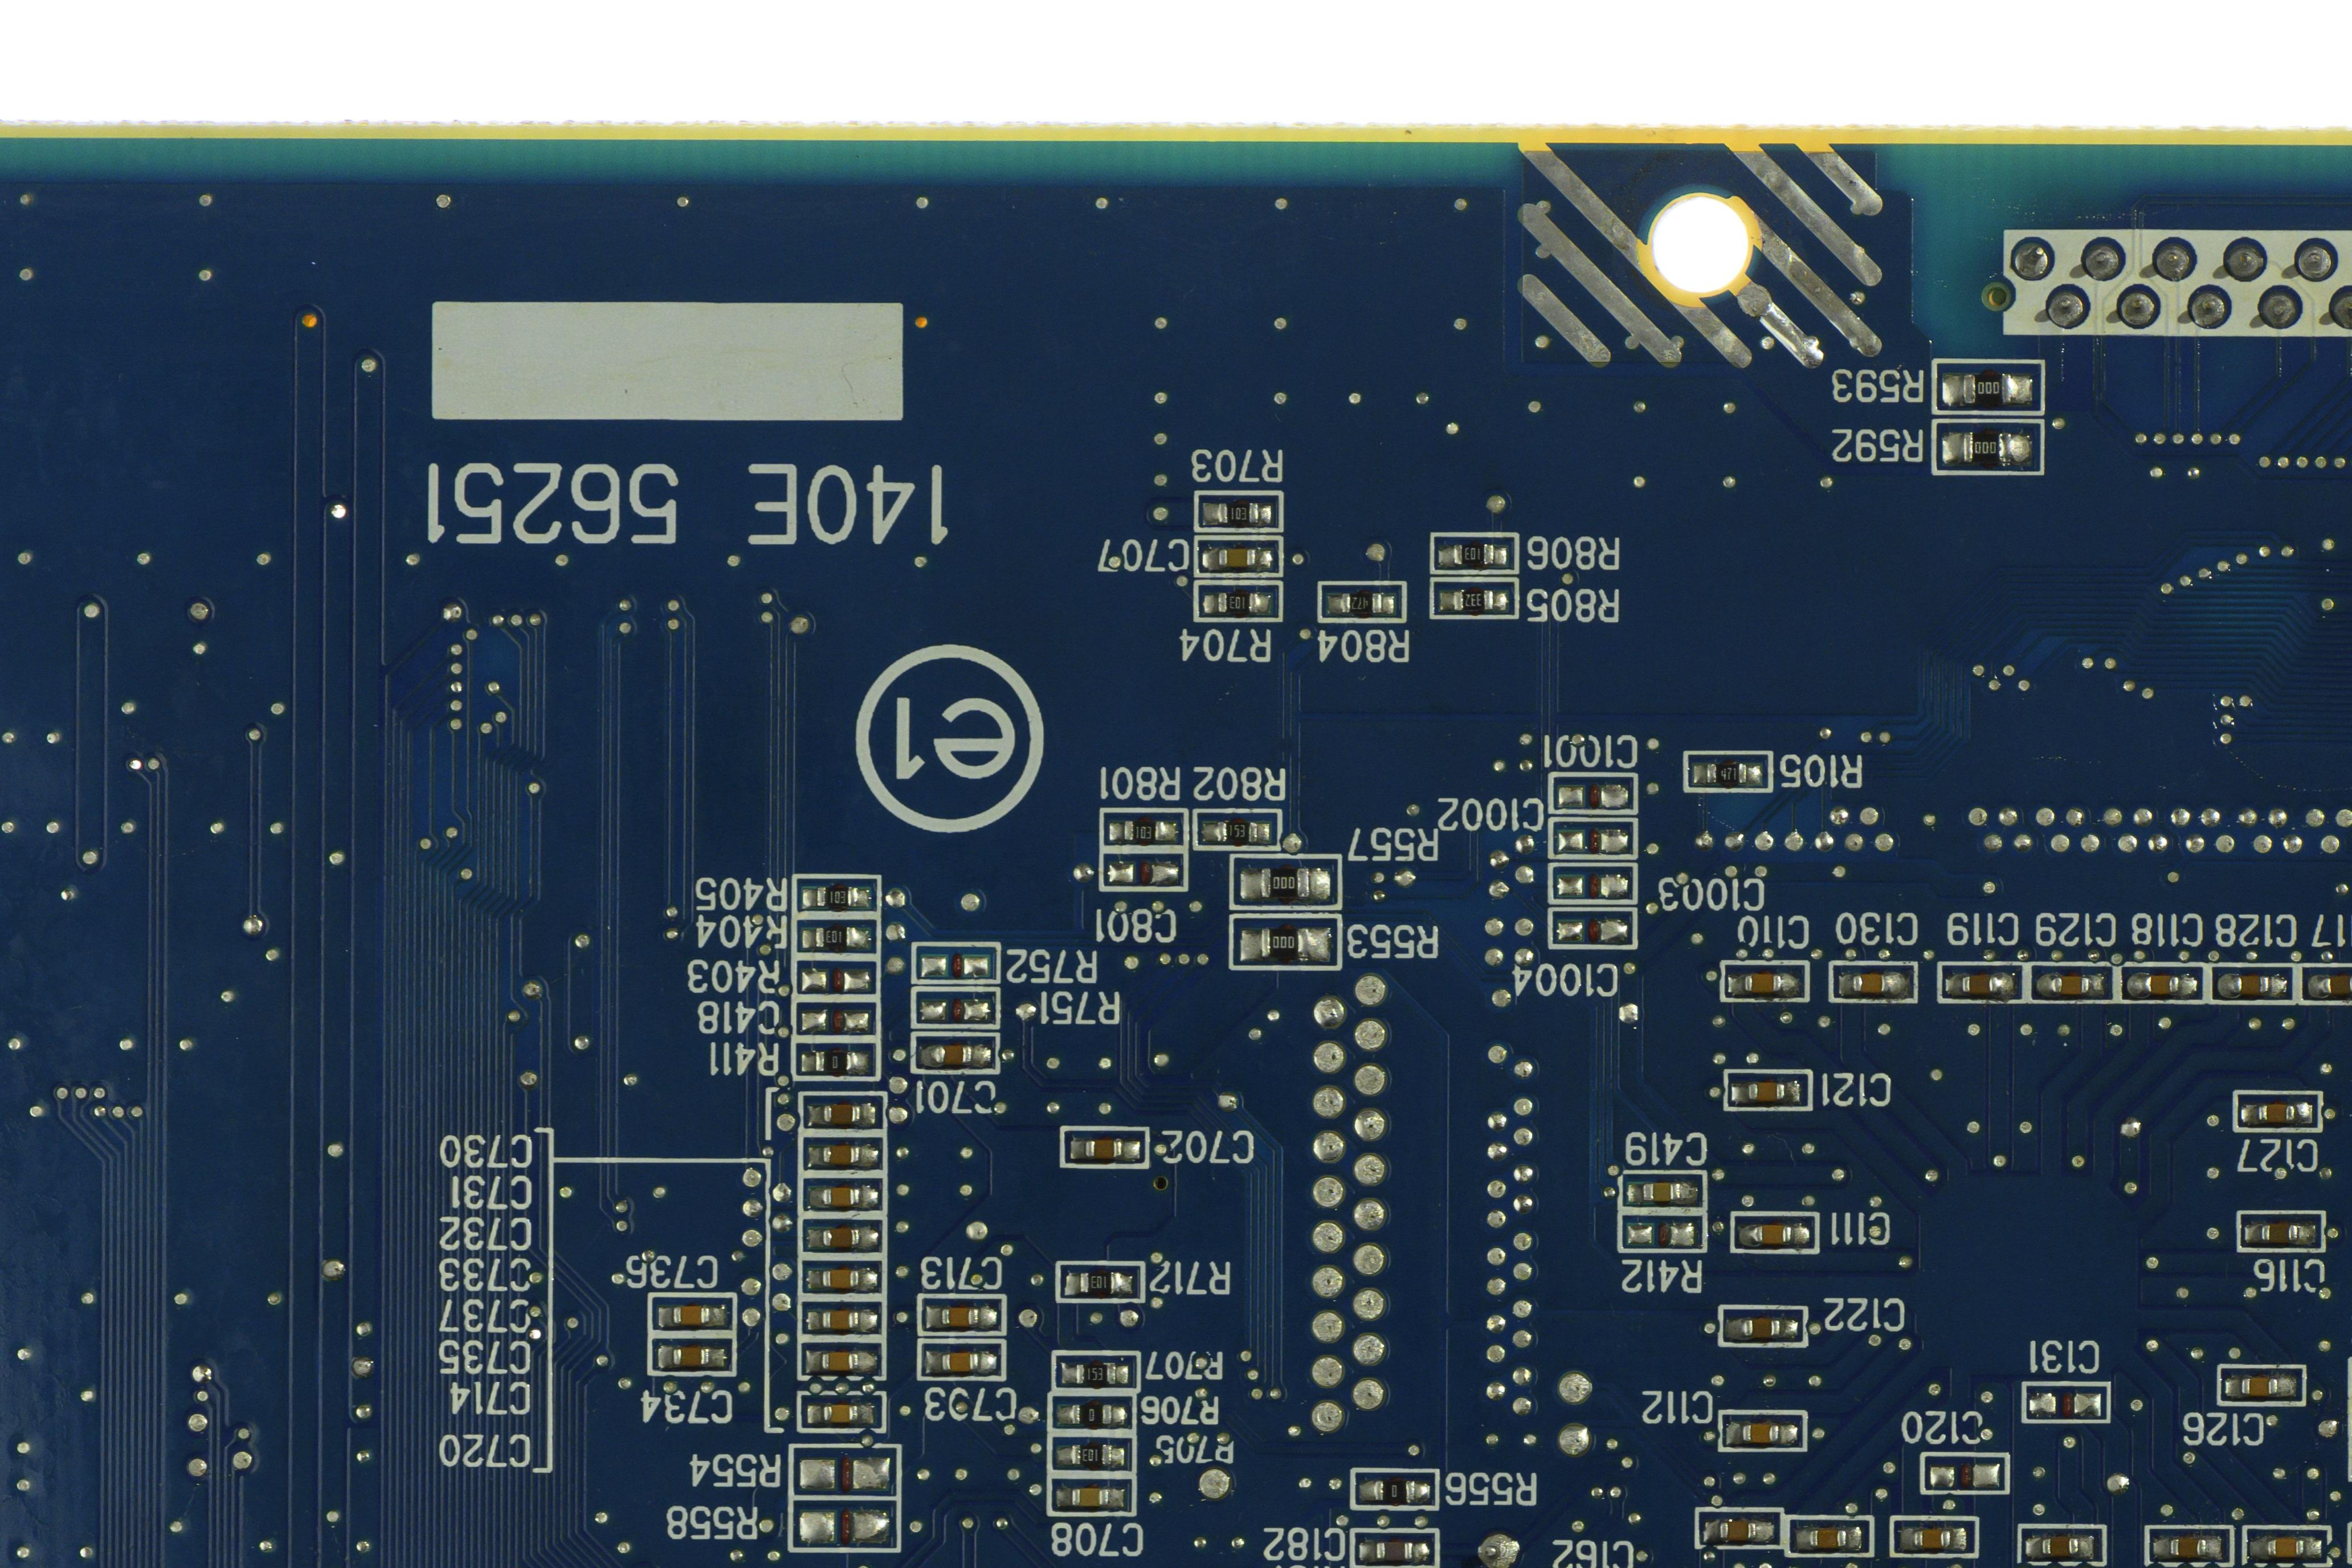capacitors: (929, 1039, 978, 1069), (1750, 1218, 1796, 1248), (938, 1349, 984, 1377), (1372, 1535, 1418, 1563), (2139, 970, 2184, 998), (2226, 970, 2271, 998), (1848, 970, 1894, 998), (2257, 1218, 2303, 1246), (2237, 1372, 2282, 1400), (2263, 1533, 2308, 1561), (1082, 1136, 1125, 1164), (1909, 1524, 1953, 1552), (1215, 544, 1260, 570), (819, 1400, 865, 1426), (819, 1225, 865, 1251), (819, 1101, 865, 1127), (819, 1183, 865, 1209), (1066, 1482, 1111, 1509), (1638, 1178, 1683, 1204), (1957, 971, 2002, 998), (1804, 1524, 1850, 1551), (2254, 1097, 2296, 1125), (1741, 970, 1785, 996), (819, 1265, 863, 1291), (819, 1305, 863, 1332), (817, 1347, 861, 1374), (819, 1139, 863, 1165), (1739, 1314, 1783, 1340), (1738, 1419, 1781, 1445), (938, 1304, 984, 1328), (669, 1302, 714, 1327), (2166, 1535, 2212, 1559), (2037, 1533, 2082, 1558), (2048, 971, 2091, 996), (1747, 1078, 1787, 1104), (1715, 1517, 1757, 1542), (670, 1344, 712, 1367), (2319, 973, 2352, 998)
resistors: (1960, 427, 2021, 465), (1958, 369, 2020, 408), (1256, 922, 1314, 963), (1256, 863, 1314, 901), (1449, 584, 1498, 616), (1118, 816, 1167, 845), (1074, 1267, 1123, 1297), (1066, 1398, 1115, 1428), (1335, 590, 1386, 618), (1215, 588, 1262, 618), (812, 922, 859, 952), (1067, 1438, 1115, 1468), (1703, 758, 1752, 786), (810, 1046, 859, 1074), (1370, 1475, 1418, 1503), (1215, 499, 1262, 527), (1449, 541, 1496, 569), (814, 882, 861, 910), (1215, 819, 1262, 847), (1071, 1360, 1118, 1388)
